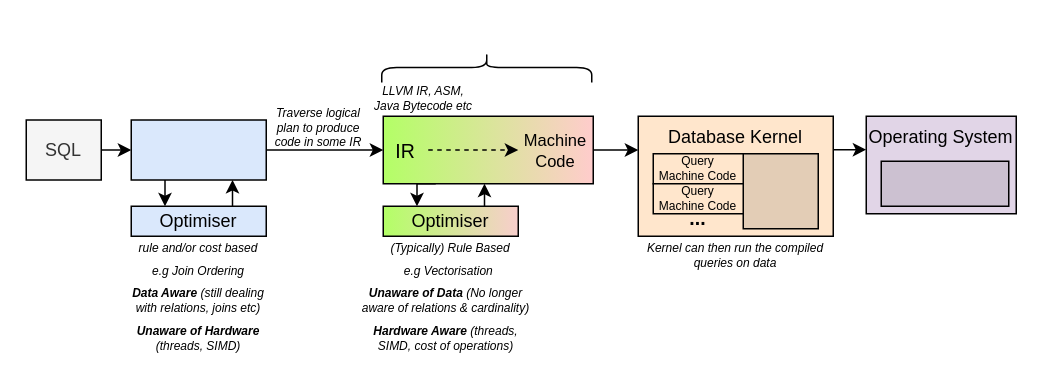
Some shapes in this 1043 by 389 pixel diagram are drawn without their labels. The centre of each missing label's shape, as x and y in pixels:
Database state: (780,190)
Hardware: (944,183)
Logical Plan: (198,149)
Same as Code Generation from Compilers: (486,66)
